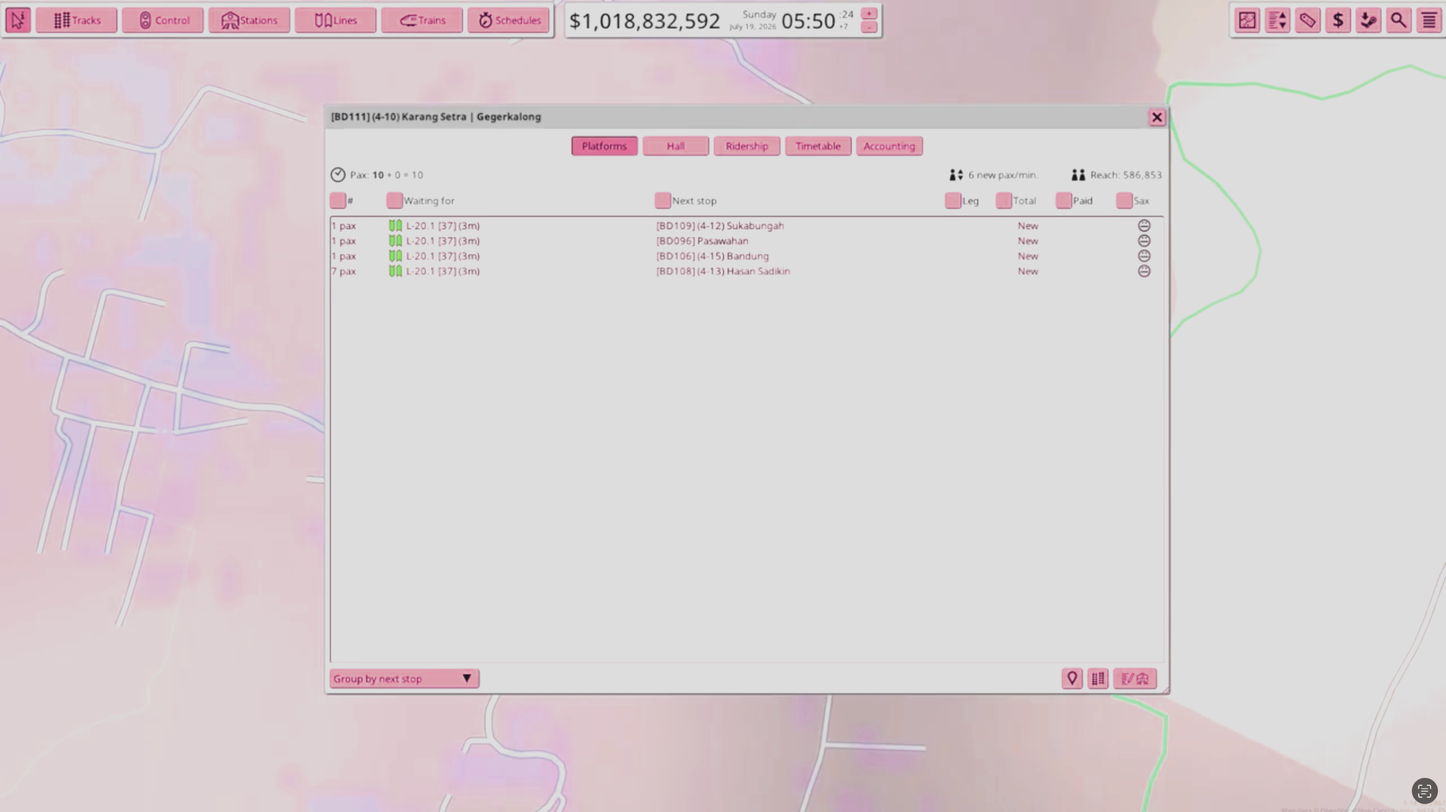passenger_increase: (331, 266, 357, 278), (332, 237, 356, 248), (332, 252, 356, 263), (331, 222, 357, 232)
station_id: (656, 221, 695, 232), (656, 266, 695, 277), (656, 237, 695, 247), (656, 252, 695, 262)
station_name: (727, 221, 784, 232), (727, 267, 791, 275), (727, 251, 769, 262), (697, 236, 748, 245)
station_numbering: (697, 267, 725, 277), (697, 222, 725, 231), (697, 252, 725, 261)
time: (780, 9, 856, 31)
